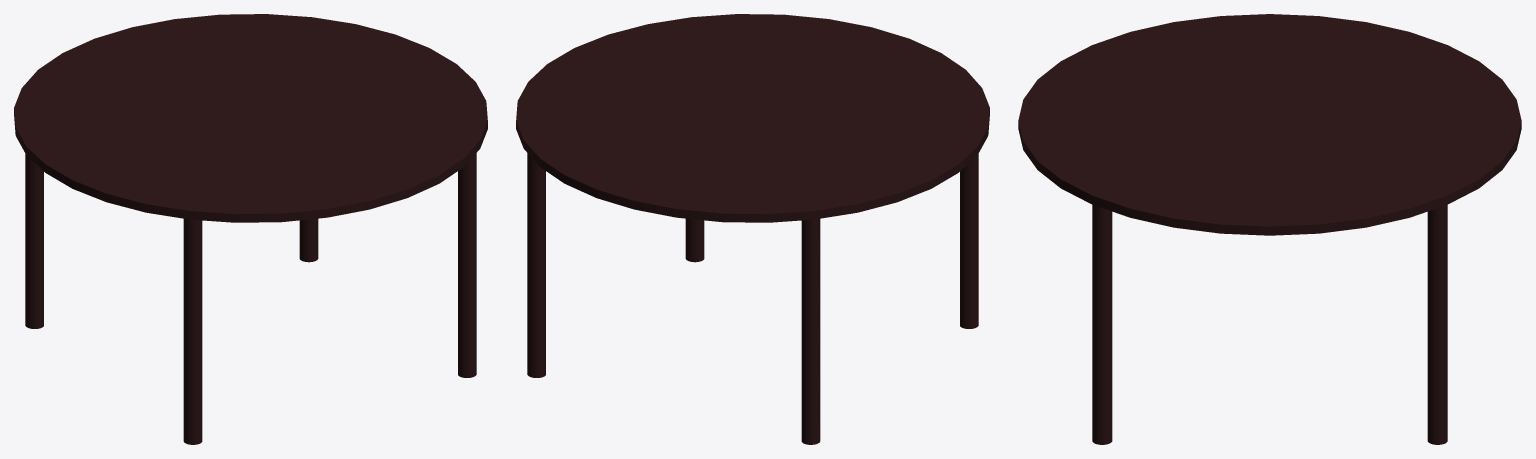
Rendered from table.FBX.
3 views of the same model, side by side, from view 1: azimuth 30°, elevation 25°; view 2: azimuth 150°, elevation 25°; view 3: azimuth 270°, elevation 25° (orthographic). The views are drawn at different scales.
Visible parts, largest first — view 1: table; view 2: table; view 3: table.
Part boxes in pixels (x1,y1,x2,y2): table: [14, 14, 487, 444]; table: [516, 14, 989, 444]; table: [1018, 14, 1521, 444].
Size of the model in its own units: 1.5 by 1.5 by 0.821.
